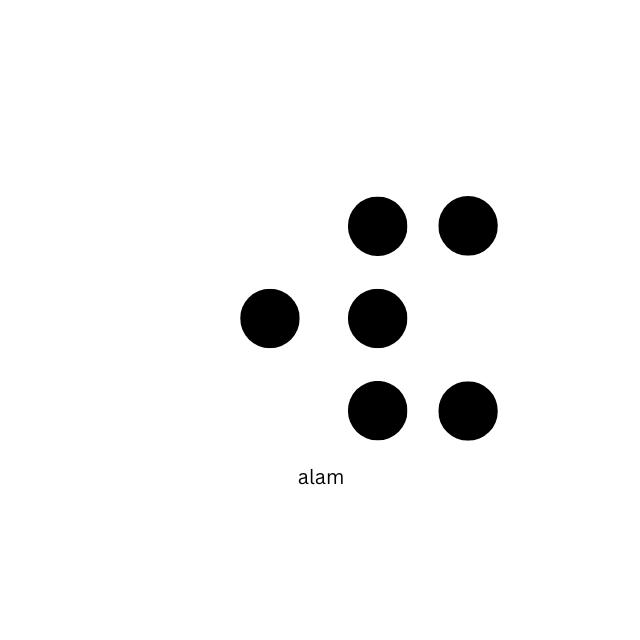dot_5: (150, 191, 301, 443)
two_cell_non_alphabet_alam: (346, 194, 499, 442)
